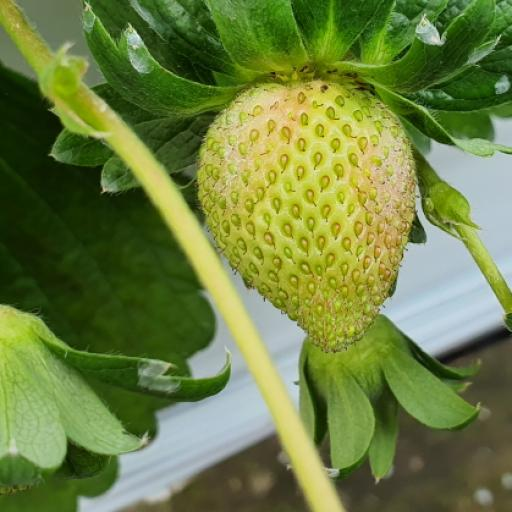Powdery Mildew Fruit: (194, 73, 417, 353)
